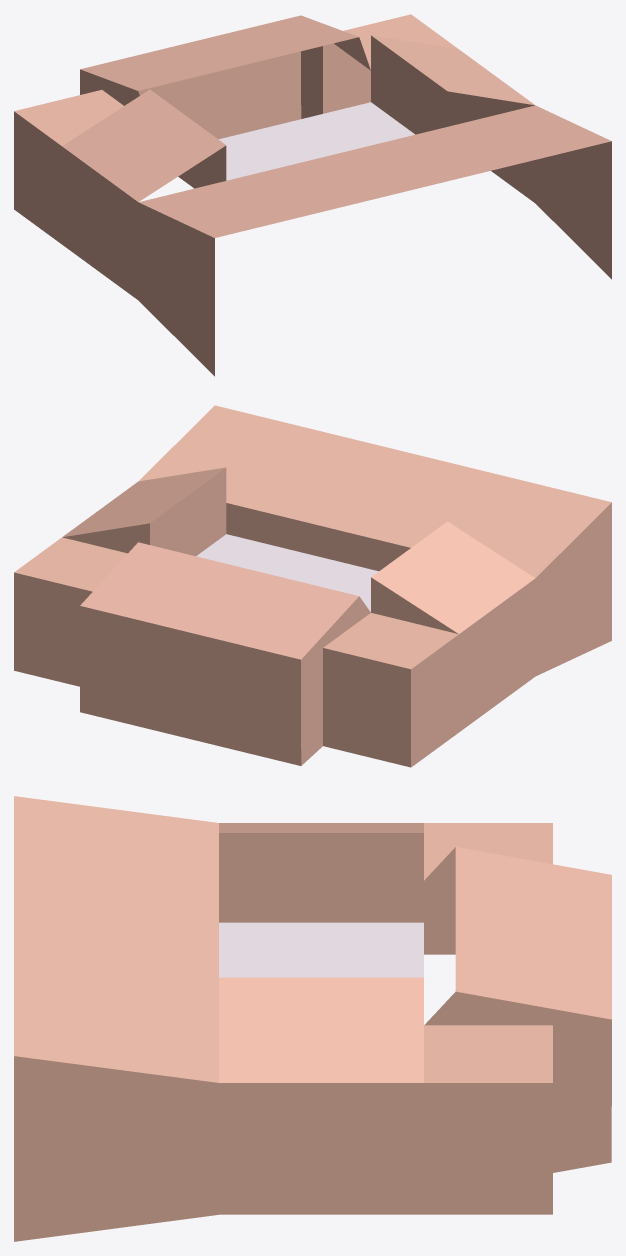
3 views of the same model, one above another, from view 1: azimuth 30°, elevation 25°; view 2: azimuth 150°, elevation 25°; view 3: azimuth 270°, elevation 25° (orthographic). The views are drawn at different scales.
Parts seen in each view (by area): view 1: Object01; view 2: Object01; view 3: Object01.
Boxes of the visible parts, bbox=[...] form: Object01: bbox=[14, 14, 611, 376]; Object01: bbox=[14, 405, 611, 767]; Object01: bbox=[14, 796, 611, 1241].
Bounding box in the file's own units: 30000 × 11450 × 29161.
